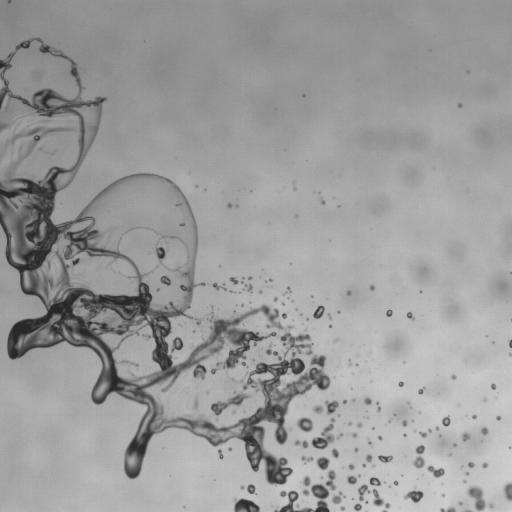droplet: (403, 485, 423, 503), (411, 445, 425, 468), (295, 417, 313, 432), (427, 465, 444, 478), (324, 400, 338, 415), (331, 491, 346, 504), (240, 484, 257, 495), (316, 456, 329, 470), (313, 305, 324, 319), (346, 474, 361, 484), (294, 439, 308, 448), (81, 90, 92, 101), (66, 113, 77, 124), (49, 114, 60, 125), (1, 127, 12, 138), (49, 213, 60, 224), (217, 273, 228, 284), (273, 284, 284, 295), (35, 306, 46, 317), (197, 308, 208, 319), (219, 309, 230, 320), (201, 326, 212, 337), (170, 353, 181, 364), (91, 362, 102, 373), (321, 363, 332, 374), (321, 388, 332, 399), (289, 395, 300, 406), (319, 412, 330, 423), (283, 413, 294, 424), (260, 418, 271, 429), (309, 427, 320, 438), (469, 427, 480, 438), (303, 430, 314, 441), (354, 436, 365, 447), (145, 439, 156, 450), (261, 440, 272, 451), (270, 447, 281, 458), (312, 447, 323, 458), (320, 447, 331, 458), (327, 458, 338, 469), (333, 475, 344, 486), (468, 476, 479, 487), (307, 496, 318, 507), (464, 496, 475, 507), (441, 415, 450, 427), (369, 477, 380, 486), (301, 456, 313, 464), (312, 405, 323, 413), (461, 432, 470, 441), (53, 191, 62, 200), (251, 279, 260, 288), (3, 322, 12, 331), (164, 334, 173, 343), (193, 336, 202, 345), (312, 347, 321, 356), (108, 390, 117, 399), (306, 410, 315, 419), (258, 418, 267, 427), (474, 419, 483, 428), (285, 434, 294, 443), (122, 436, 131, 445), (415, 436, 424, 445), (257, 459, 266, 468), (281, 482, 290, 491), (496, 489, 505, 498), (365, 492, 374, 501), (481, 492, 490, 501), (323, 495, 332, 504), (279, 496, 288, 505), (331, 448, 339, 458), (406, 312, 414, 321), (372, 505, 383, 511), (418, 386, 426, 394), (353, 503, 361, 511), (364, 396, 371, 405), (481, 426, 488, 435), (347, 432, 357, 438), (386, 309, 393, 317), (348, 462, 355, 470), (0, 49, 5, 60), (0, 171, 5, 182), (0, 243, 5, 254), (0, 340, 5, 351), (20, 34, 27, 41), (42, 38, 49, 45), (15, 137, 22, 144), (10, 154, 17, 161), (80, 159, 87, 166), (12, 268, 19, 275), (192, 276, 199, 283), (235, 282, 242, 289), (191, 286, 198, 293), (241, 289, 248, 296), (30, 294, 37, 301), (253, 301, 260, 308), (242, 305, 249, 312), (238, 307, 245, 314), (15, 314, 22, 321), (279, 318, 286, 325), (290, 329, 297, 336), (60, 340, 67, 347), (80, 345, 87, 352), (26, 348, 33, 355), (14, 356, 21, 363), (310, 383, 317, 390), (369, 402, 376, 409), (140, 404, 147, 411), (282, 421, 289, 428), (350, 424, 357, 431), (402, 425, 409, 432), (182, 428, 189, 435), (370, 435, 377, 442), (455, 436, 462, 443), (238, 439, 245, 446), (218, 442, 225, 449), (326, 442, 333, 449), (371, 455, 378, 462), (310, 459, 317, 466), (474, 461, 481, 468), (326, 463, 333, 470), (139, 466, 146, 473), (321, 468, 328, 475), (349, 469, 356, 476), (119, 470, 126, 477), (309, 478, 316, 485), (319, 478, 326, 485), (354, 480, 361, 487), (276, 483, 283, 490), (366, 483, 373, 490), (462, 483, 469, 490), (295, 486, 302, 493), (327, 489, 334, 496), (245, 493, 252, 500), (339, 498, 346, 505), (310, 502, 317, 509), (454, 504, 461, 511), (506, 474, 511, 483), (226, 506, 235, 511), (481, 506, 490, 511), (369, 284, 375, 291), (468, 462, 475, 468), (450, 374, 456, 380), (398, 381, 404, 387), (401, 420, 407, 426), (356, 422, 362, 428), (377, 435, 383, 441), (482, 462, 488, 468), (348, 358, 352, 366), (273, 296, 278, 302), (490, 383, 495, 389), (346, 421, 352, 426), (507, 499, 511, 506), (386, 507, 393, 511), (457, 103, 462, 108), (346, 290, 351, 295), (342, 399, 347, 404), (393, 480, 398, 485), (340, 506, 345, 511), (33, 32, 38, 37), (15, 39, 20, 44), (10, 46, 15, 51), (63, 50, 68, 55), (75, 66, 80, 71), (80, 81, 85, 86), (99, 92, 104, 97), (10, 97, 15, 102), (16, 99, 21, 104), (101, 100, 106, 105), (51, 113, 56, 118), (73, 114, 78, 119), (43, 115, 48, 120), (99, 116, 104, 121), (1, 118, 6, 123), (28, 125, 33, 130), (97, 126, 102, 131), (14, 129, 19, 134), (96, 129, 101, 134), (28, 134, 33, 139), (94, 134, 99, 139), (7, 143, 12, 148), (22, 145, 27, 150), (135, 168, 140, 173), (143, 168, 148, 173), (130, 169, 135, 174), (152, 169, 157, 174), (125, 170, 130, 175), (119, 172, 124, 177), (168, 175, 173, 180), (111, 176, 116, 181), (102, 182, 107, 187), (178, 184, 183, 189), (198, 184, 203, 189), (96, 187, 101, 192), (93, 190, 98, 195), (185, 195, 190, 200), (86, 197, 91, 202), (187, 199, 192, 204), (230, 200, 235, 205), (316, 200, 321, 205), (81, 202, 86, 207), (190, 206, 195, 211), (192, 211, 197, 216), (70, 215, 75, 220), (195, 220, 200, 225), (196, 226, 201, 231), (197, 237, 202, 242), (195, 251, 200, 256), (2, 258, 7, 263), (194, 259, 199, 264), (235, 275, 240, 280), (243, 278, 248, 283), (372, 281, 377, 286), (364, 284, 369, 289), (16, 285, 21, 290), (251, 286, 256, 291), (281, 286, 286, 291), (373, 287, 378, 292), (350, 290, 355, 295), (276, 298, 281, 303), (284, 299, 289, 304), (189, 301, 194, 306), (312, 304, 317, 309), (297, 307, 302, 312), (184, 308, 189, 313), (321, 312, 326, 317), (312, 317, 317, 322), (326, 319, 331, 324), (307, 330, 312, 335), (504, 341, 509, 346), (53, 343, 58, 348), (69, 344, 74, 349), (48, 345, 53, 350), (42, 346, 47, 351), (92, 352, 97, 357), (351, 358, 356, 363), (323, 359, 328, 364), (327, 373, 332, 378), (92, 376, 97, 381), (449, 378, 454, 383), (328, 382, 333, 387), (413, 387, 418, 392), (305, 389, 310, 394), (361, 393, 366, 398), (86, 394, 91, 399), (120, 396, 125, 401), (327, 397, 332, 402), (346, 399, 351, 404), (89, 400, 94, 405), (337, 400, 342, 405), (370, 400, 375, 405), (100, 401, 105, 406), (322, 406, 327, 411), (334, 407, 339, 412), (329, 412, 334, 417), (441, 412, 446, 417), (299, 413, 304, 418), (360, 418, 365, 423), (397, 419, 402, 424), (406, 420, 411, 425), (332, 421, 337, 426), (448, 422, 453, 427), (133, 423, 138, 428), (438, 423, 443, 428), (430, 425, 435, 430), (486, 425, 491, 430), (164, 427, 169, 432), (421, 427, 426, 432), (465, 428, 470, 433), (476, 428, 481, 433), (327, 429, 332, 434), (477, 431, 482, 436), (484, 433, 489, 438), (339, 435, 344, 440), (349, 436, 354, 441), (201, 437, 206, 442), (298, 437, 303, 442), (465, 438, 470, 443), (307, 441, 312, 446), (216, 443, 221, 448), (297, 443, 302, 448), (336, 447, 341, 452), (423, 447, 428, 452), (221, 450, 226, 455), (337, 450, 342, 455), (241, 451, 246, 456), (382, 451, 387, 456), (413, 452, 418, 457), (419, 452, 424, 457), (282, 453, 287, 458), (468, 457, 473, 462), (482, 457, 487, 462), (361, 458, 366, 463), (244, 459, 249, 464), (376, 459, 381, 464), (365, 461, 370, 466), (384, 461, 389, 466), (343, 464, 348, 469), (422, 464, 427, 469), (433, 464, 438, 469), (411, 465, 416, 470), (316, 466, 321, 471), (465, 466, 470, 471), (428, 471, 433, 476), (439, 474, 444, 479), (462, 474, 467, 479), (285, 475, 290, 480), (299, 475, 304, 480), (395, 476, 400, 481), (342, 477, 347, 482), (331, 478, 336, 483), (364, 480, 369, 485), (243, 482, 248, 487), (346, 482, 351, 487), (373, 484, 378, 489), (408, 486, 413, 491), (414, 486, 419, 491), (254, 487, 259, 492), (297, 491, 302, 496), (354, 492, 359, 497), (378, 493, 383, 498), (407, 497, 412, 502), (419, 497, 424, 502), (354, 498, 359, 503), (382, 498, 387, 503), (253, 499, 258, 504), (359, 500, 364, 505), (336, 502, 341, 507), (389, 502, 394, 507), (379, 504, 384, 509), (442, 504, 447, 509), (205, 390, 209, 396), (0, 81, 3, 88), (247, 276, 252, 280), (281, 301, 285, 306), (483, 397, 487, 402), (472, 414, 476, 419), (496, 416, 501, 420), (354, 447, 358, 452), (441, 493, 445, 498), (458, 501, 463, 505), (227, 203, 231, 207), (294, 214, 298, 218), (258, 289, 262, 293), (240, 303, 244, 307), (178, 323, 182, 327), (351, 398, 355, 402), (435, 426, 439, 430), (227, 447, 231, 451), (362, 463, 366, 467), (508, 347, 511, 352), (258, 508, 263, 511), (194, 184, 198, 187), (306, 317, 309, 321), (328, 324, 332, 327), (508, 352, 511, 356), (418, 410, 421, 414), (336, 414, 340, 417), (371, 426, 374, 430), (403, 433, 406, 437), (438, 434, 442, 437), (453, 443, 457, 446), (448, 453, 452, 456), (465, 472, 469, 475), (462, 480, 466, 483), (0, 67, 2, 72), (0, 225, 2, 230), (8, 0, 11, 3), (302, 94, 305, 97), (235, 204, 238, 207), (289, 262, 292, 265), (419, 290, 422, 293), (310, 294, 313, 297), (295, 308, 298, 311), (337, 310, 340, 313), (402, 361, 405, 364), (355, 363, 358, 366), (411, 419, 414, 422), (508, 446, 511, 449), (320, 476, 323, 479), (8, 2, 11, 5), (40, 37, 43, 40), (73, 59, 76, 62), (301, 96, 304, 99), (459, 100, 462, 103), (23, 103, 26, 106), (454, 103, 457, 106), (461, 103, 464, 106), (26, 105, 29, 108), (457, 107, 460, 110), (158, 172, 161, 175), (195, 187, 198, 190), (322, 197, 325, 200), (337, 201, 340, 204), (224, 202, 227, 205), (320, 203, 323, 206), (231, 204, 234, 207), (227, 207, 230, 210), (336, 207, 339, 210), (506, 271, 509, 274), (231, 274, 234, 277), (270, 276, 273, 279), (265, 277, 268, 280), (200, 279, 203, 282), (211, 280, 214, 283), (267, 280, 270, 283), (237, 281, 240, 284), (216, 282, 219, 285), (263, 282, 266, 285), (251, 283, 254, 286), (199, 284, 202, 287), (223, 284, 226, 287), (218, 287, 221, 290), (289, 287, 292, 290), (347, 287, 350, 290), (419, 287, 422, 290), (261, 288, 264, 291), (343, 290, 346, 293), (416, 290, 419, 293), (246, 291, 249, 294), (231, 292, 234, 295), (235, 292, 238, 295), (419, 292, 422, 295), (284, 293, 287, 296), (347, 295, 350, 298), (289, 296, 292, 299), (237, 302, 240, 305), (319, 302, 322, 305), (212, 306, 215, 309), (386, 306, 389, 309), (336, 307, 339, 310), (208, 308, 211, 311), (391, 308, 394, 311), (407, 308, 410, 311), (339, 309, 342, 312), (383, 312, 386, 315), (391, 312, 394, 315), (286, 313, 289, 316), (389, 315, 392, 318), (507, 316, 510, 319), (317, 317, 320, 320), (407, 317, 410, 320), (193, 319, 196, 322), (507, 319, 510, 322), (194, 324, 197, 327), (325, 324, 328, 327), (331, 324, 334, 327), (328, 327, 331, 330), (189, 330, 192, 333), (507, 337, 510, 340), (181, 339, 184, 342), (491, 343, 494, 346), (345, 360, 348, 363), (355, 365, 358, 368), (449, 372, 452, 375), (454, 372, 457, 375), (455, 376, 458, 379), (400, 378, 403, 381), (491, 380, 494, 383), (396, 385, 399, 388), (419, 385, 422, 388), (495, 385, 498, 388), (399, 386, 402, 389), (488, 386, 491, 389), (419, 393, 422, 396), (343, 396, 346, 399), (409, 402, 412, 405), (406, 404, 409, 407), (380, 407, 383, 410), (393, 410, 396, 413), (470, 412, 473, 415), (496, 412, 499, 415), (392, 415, 395, 418), (468, 415, 471, 418), (448, 416, 451, 419), (475, 416, 478, 419), (472, 418, 475, 421), (499, 418, 502, 421), (345, 419, 348, 422), (390, 419, 393, 422), (384, 420, 387, 423), (368, 426, 371, 429), (374, 426, 377, 429), (342, 431, 345, 434), (400, 431, 403, 434), (405, 431, 408, 434), (426, 431, 429, 434), (380, 433, 383, 436), (400, 434, 403, 437), (418, 434, 421, 437), (440, 435, 443, 438), (354, 436, 357, 439), (403, 436, 406, 439), (376, 438, 379, 441), (364, 440, 367, 443), (366, 443, 369, 446), (355, 444, 358, 447), (505, 444, 508, 447), (452, 446, 455, 449), (351, 447, 354, 450), (357, 448, 360, 451), (354, 451, 357, 454), (216, 452, 219, 455), (298, 455, 301, 458), (448, 455, 451, 458), (222, 456, 225, 459), (391, 457, 394, 460), (483, 467, 486, 470), (443, 470, 446, 473), (401, 471, 404, 474), (371, 474, 374, 477), (378, 478, 381, 481), (459, 480, 462, 483), (250, 481, 253, 484), (397, 481, 400, 484), (391, 483, 394, 486), (441, 490, 444, 493), (444, 492, 447, 495), (440, 496, 443, 499), (204, 188, 206, 191), (337, 205, 340, 207), (219, 264, 221, 267), (299, 313, 302, 315), (393, 413, 396, 415), (383, 481, 386, 483), (351, 498, 354, 500), (509, 268, 511, 271), (509, 355, 511, 358), (509, 443, 511, 446), (509, 448, 511, 451), (342, 509, 345, 511), (353, 509, 356, 511), (437, 509, 440, 511), (239, 291, 241, 293), (249, 301, 251, 303), (235, 304, 237, 306), (485, 335, 487, 337), (492, 341, 494, 343), (350, 387, 352, 389), (401, 474, 403, 476), (388, 485, 390, 487), (183, 506, 185, 508), (4, 0, 7, 1), (10, 0, 13, 1), (250, 190, 252, 191), (510, 272, 511, 274), (271, 285, 272, 287), (292, 319, 293, 321), (365, 510, 367, 511)
ligament: (357, 484, 390, 511), (229, 276, 253, 294), (233, 496, 260, 511), (502, 480, 511, 501), (37, 146, 57, 155), (365, 454, 375, 468), (212, 282, 227, 291), (378, 454, 393, 463), (440, 506, 457, 511), (318, 192, 325, 204), (375, 401, 381, 412), (217, 448, 223, 459), (286, 296, 294, 302), (264, 278, 273, 283), (292, 180, 296, 191), (326, 313, 332, 320), (406, 401, 412, 408), (507, 339, 511, 349), (367, 437, 371, 447), (332, 338, 339, 343), (387, 418, 392, 423), (229, 290, 237, 293), (363, 416, 369, 419), (460, 465, 463, 468), (193, 329, 195, 333), (258, 354, 260, 357), (510, 318, 511, 322), (261, 347, 263, 348)
